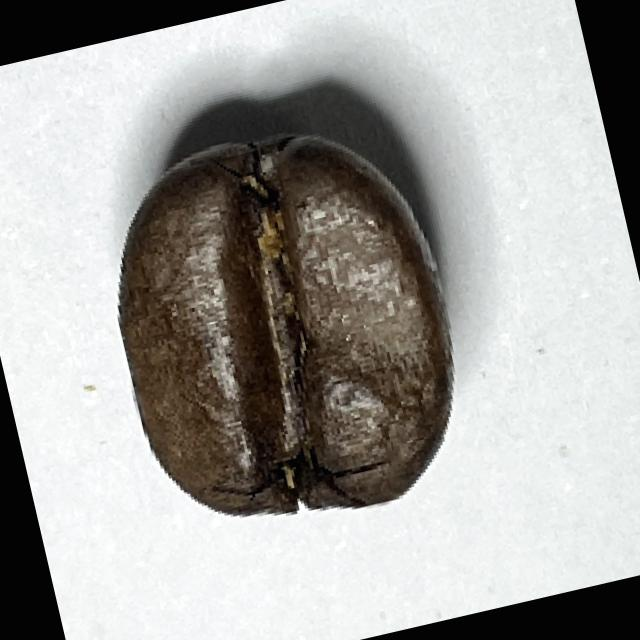bean: (80, 101, 486, 554)
